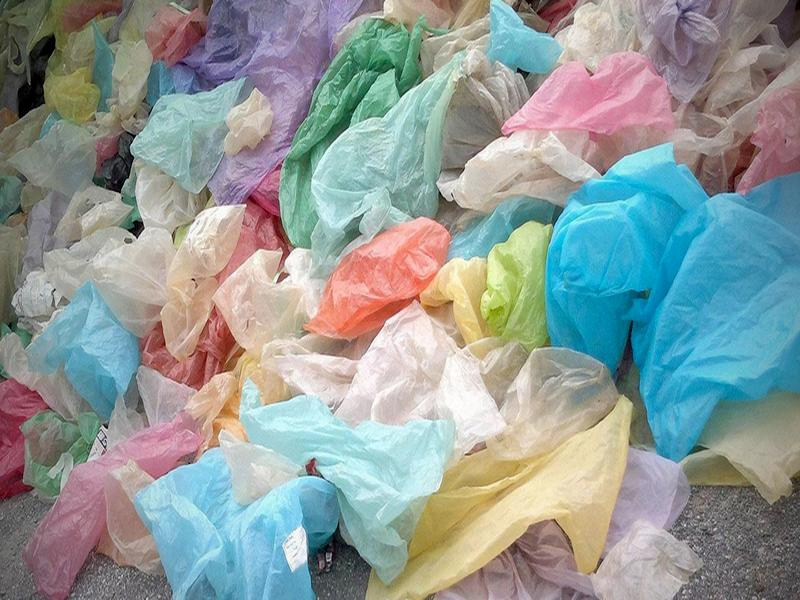plastic: (623, 175, 800, 459), (238, 378, 460, 585), (252, 297, 503, 461), (297, 51, 470, 285), (127, 452, 343, 600), (469, 334, 621, 462), (301, 212, 452, 339), (24, 281, 147, 422), (493, 51, 685, 139), (35, 224, 173, 338), (158, 199, 252, 363), (125, 72, 250, 194), (438, 126, 606, 210), (726, 63, 800, 194), (40, 11, 120, 123), (17, 408, 108, 505), (7, 115, 104, 199), (483, 1, 567, 76), (140, 5, 212, 71), (218, 86, 278, 164)
